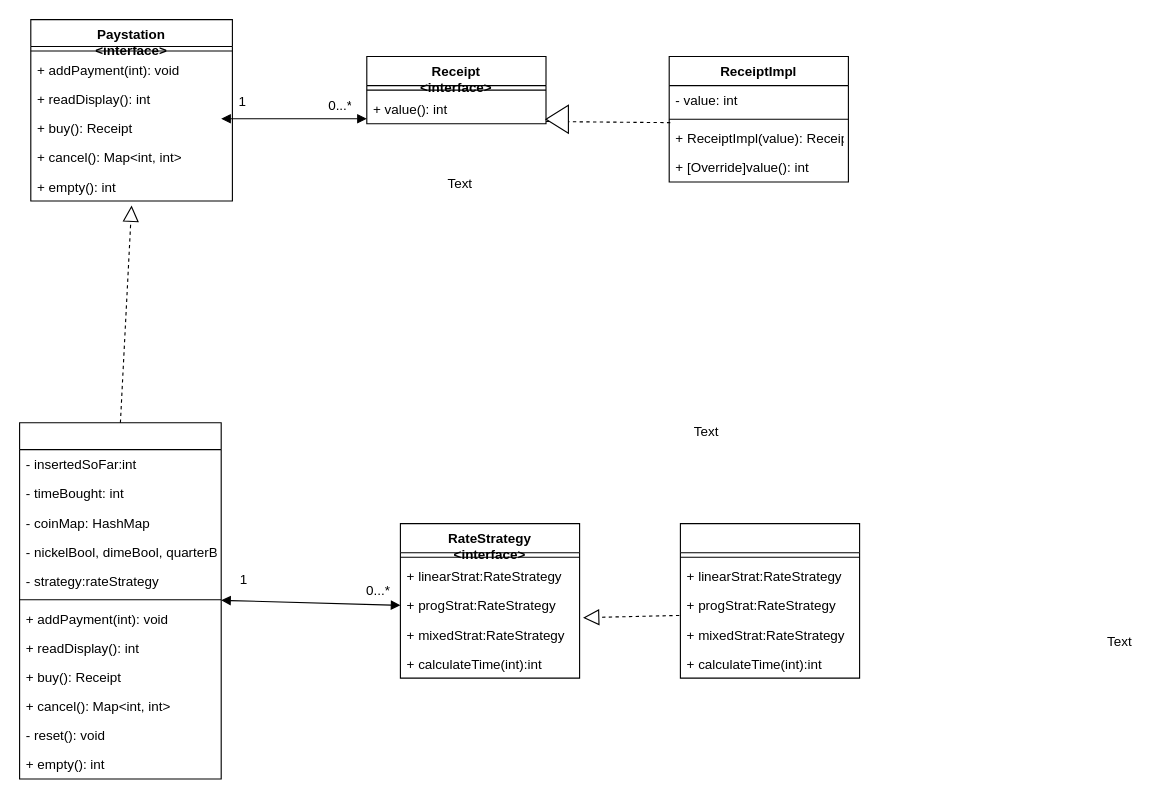
Some shapes in this 1161 by 802 pixel diagram are drawn without their labels. Here are the shapes that lost their labels. From the top down, the box of each, then its label:
(18, 422, 221, 779): PaystationImpl
(679, 522, 860, 678): RateStrategyImpl
